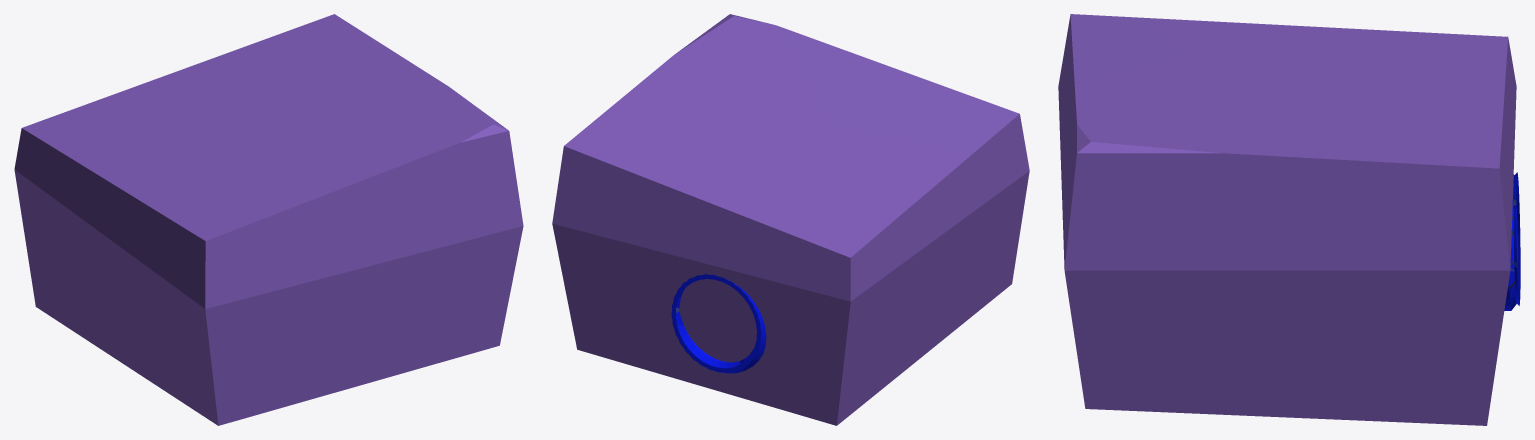
Rendered from rocketColoredP7glb.glb.
3 views of the same model, side by side, from view 1: azimuth 30°, elevation 25°; view 2: azimuth 150°, elevation 25°; view 3: azimuth 270°, elevation 25° (orthographic). The views are drawn at different scales.
Visible parts, largest first — view 1: Cylinder.001; view 2: Cylinder.001; view 3: Cylinder.001.
Boxes of the visible parts, left/top/right/bottom form: Cylinder.001: left=14, top=14, right=523, bottom=425; Cylinder.001: left=552, top=14, right=1029, bottom=425; Cylinder.001: left=1058, top=14, right=1520, bottom=425.
Bounding box in the file's own units: 3.8 × 2.72 × 3.95.
Materials: 2 (2 with a texture image).
